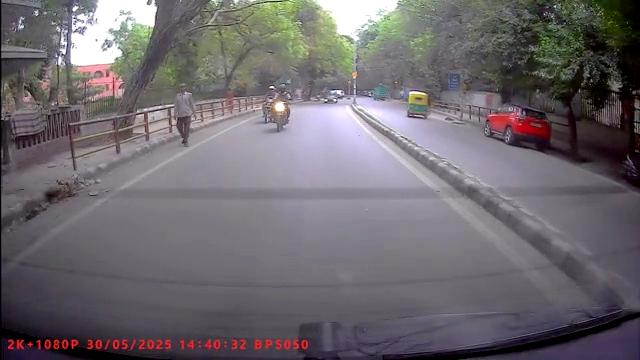motorcycle_with_helmet: (272, 81, 293, 134), (263, 82, 276, 124)
